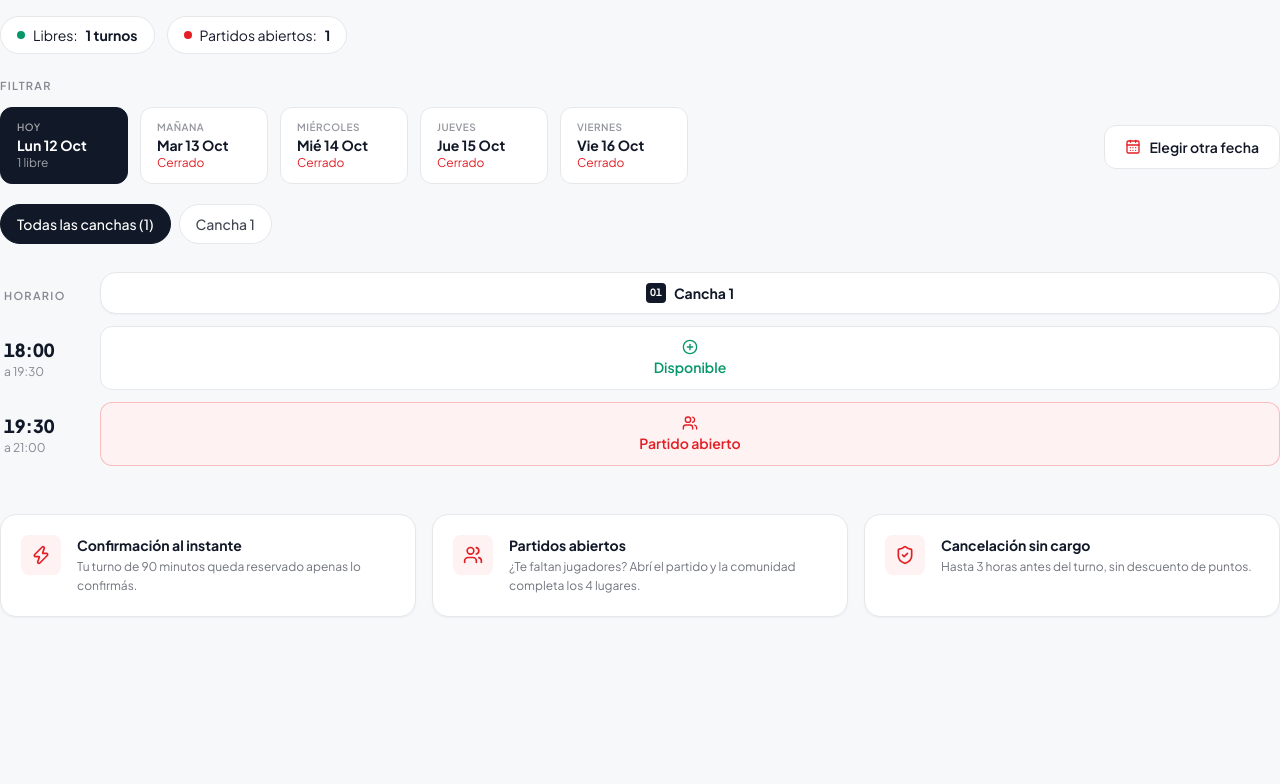
Test: BookingsBoard › al elegir un turno libre muestra el resumen para reservarlo
Click the button with aria-label "Cancha 1, 18:00, disponible": x=690, y=358 [100,326,1279,390]
(page scrolled)
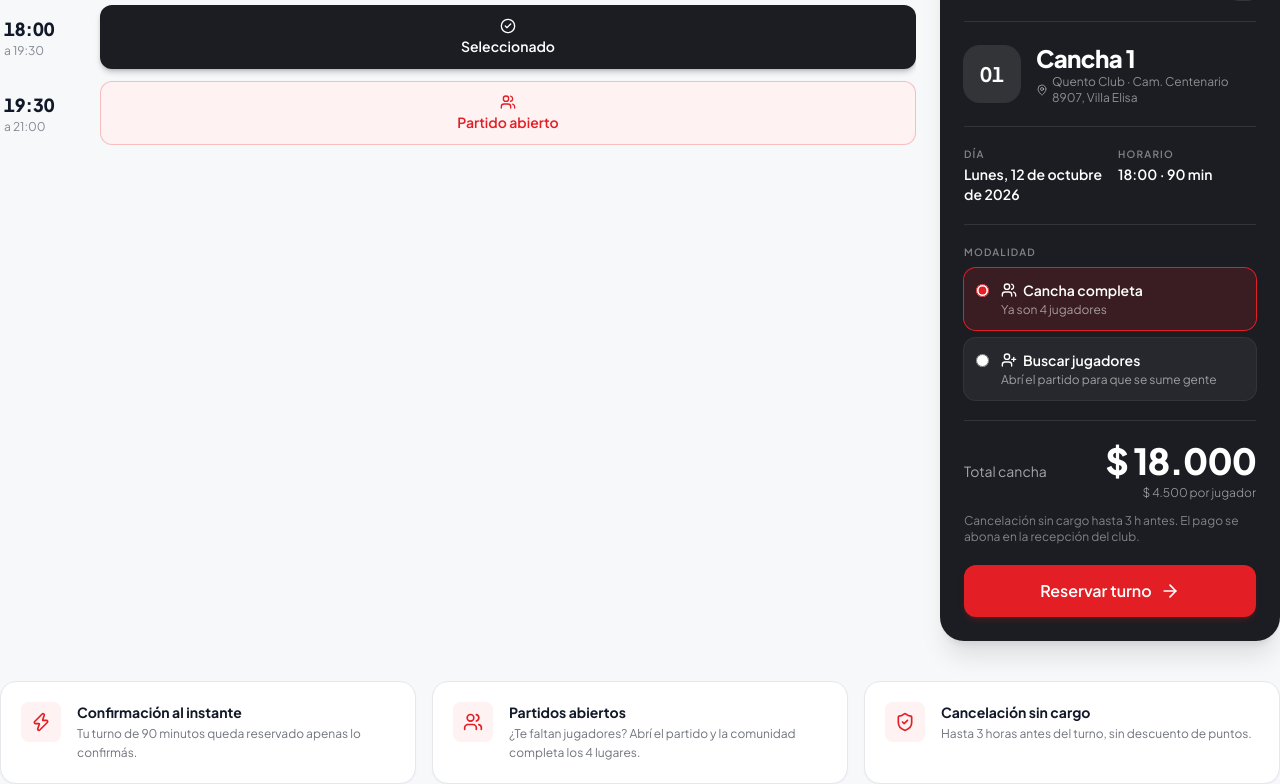
Expected: the button with aria-label "Cancha 1, 18:00, seleccionado" is shown, [100,4,916,68]
Expected: the button "Reservar turno" is shown, [964,564,1256,616]
